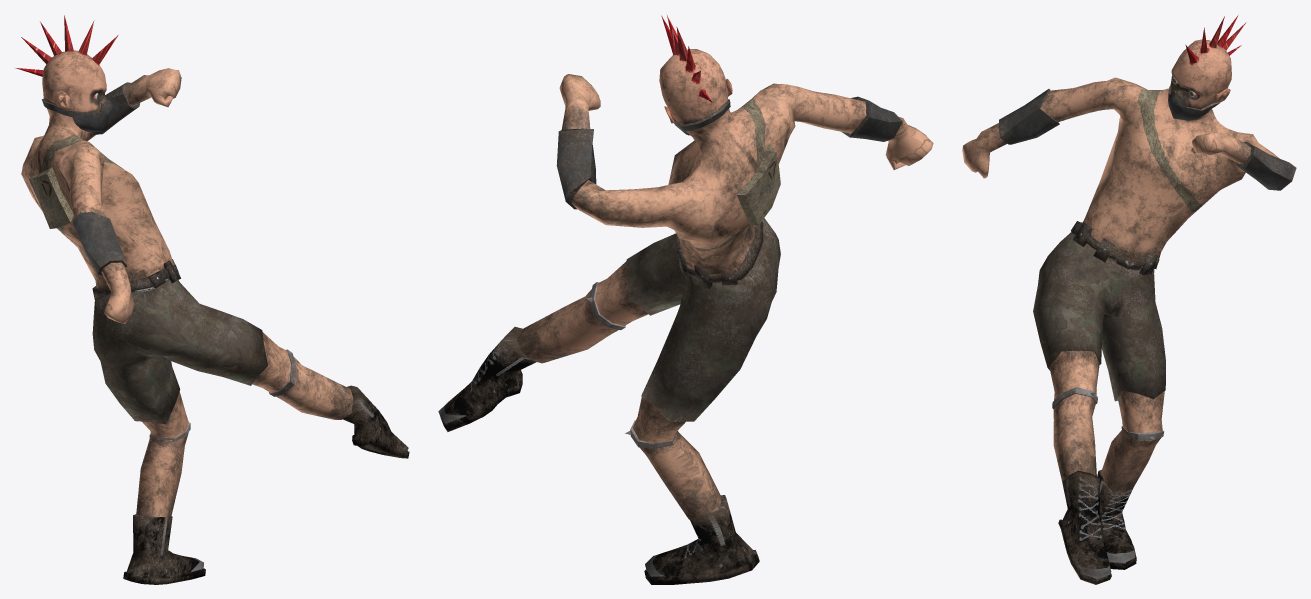
File: Anim_ataque_f1_npc2.0023.obj
The picture shows the model from 3 angles, left to right: view 1: azimuth 30°, elevation 25°; view 2: azimuth 150°, elevation 25°; view 3: azimuth 270°, elevation 25°; orthographic projection. The views are drawn at different scales.
Parts seen in each view (by area): view 1: polySurface1; view 2: polySurface1; view 3: polySurface1.
Part boxes in pixels (<box>): polySurface1: <box>15,15,409,584</box>; polySurface1: <box>438,14,933,584</box>; polySurface1: <box>962,15,1296,584</box>.
Size of the model in its own units: 6.66 by 9.42 by 5.52.
